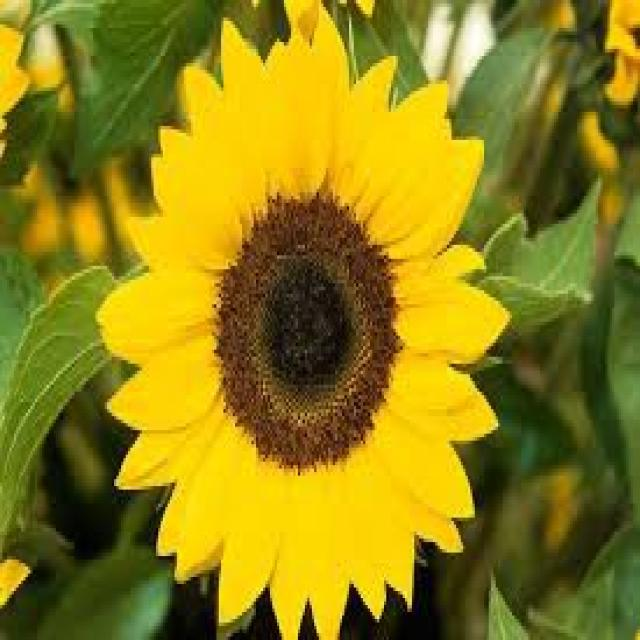sunflower: (100, 2, 549, 638)
